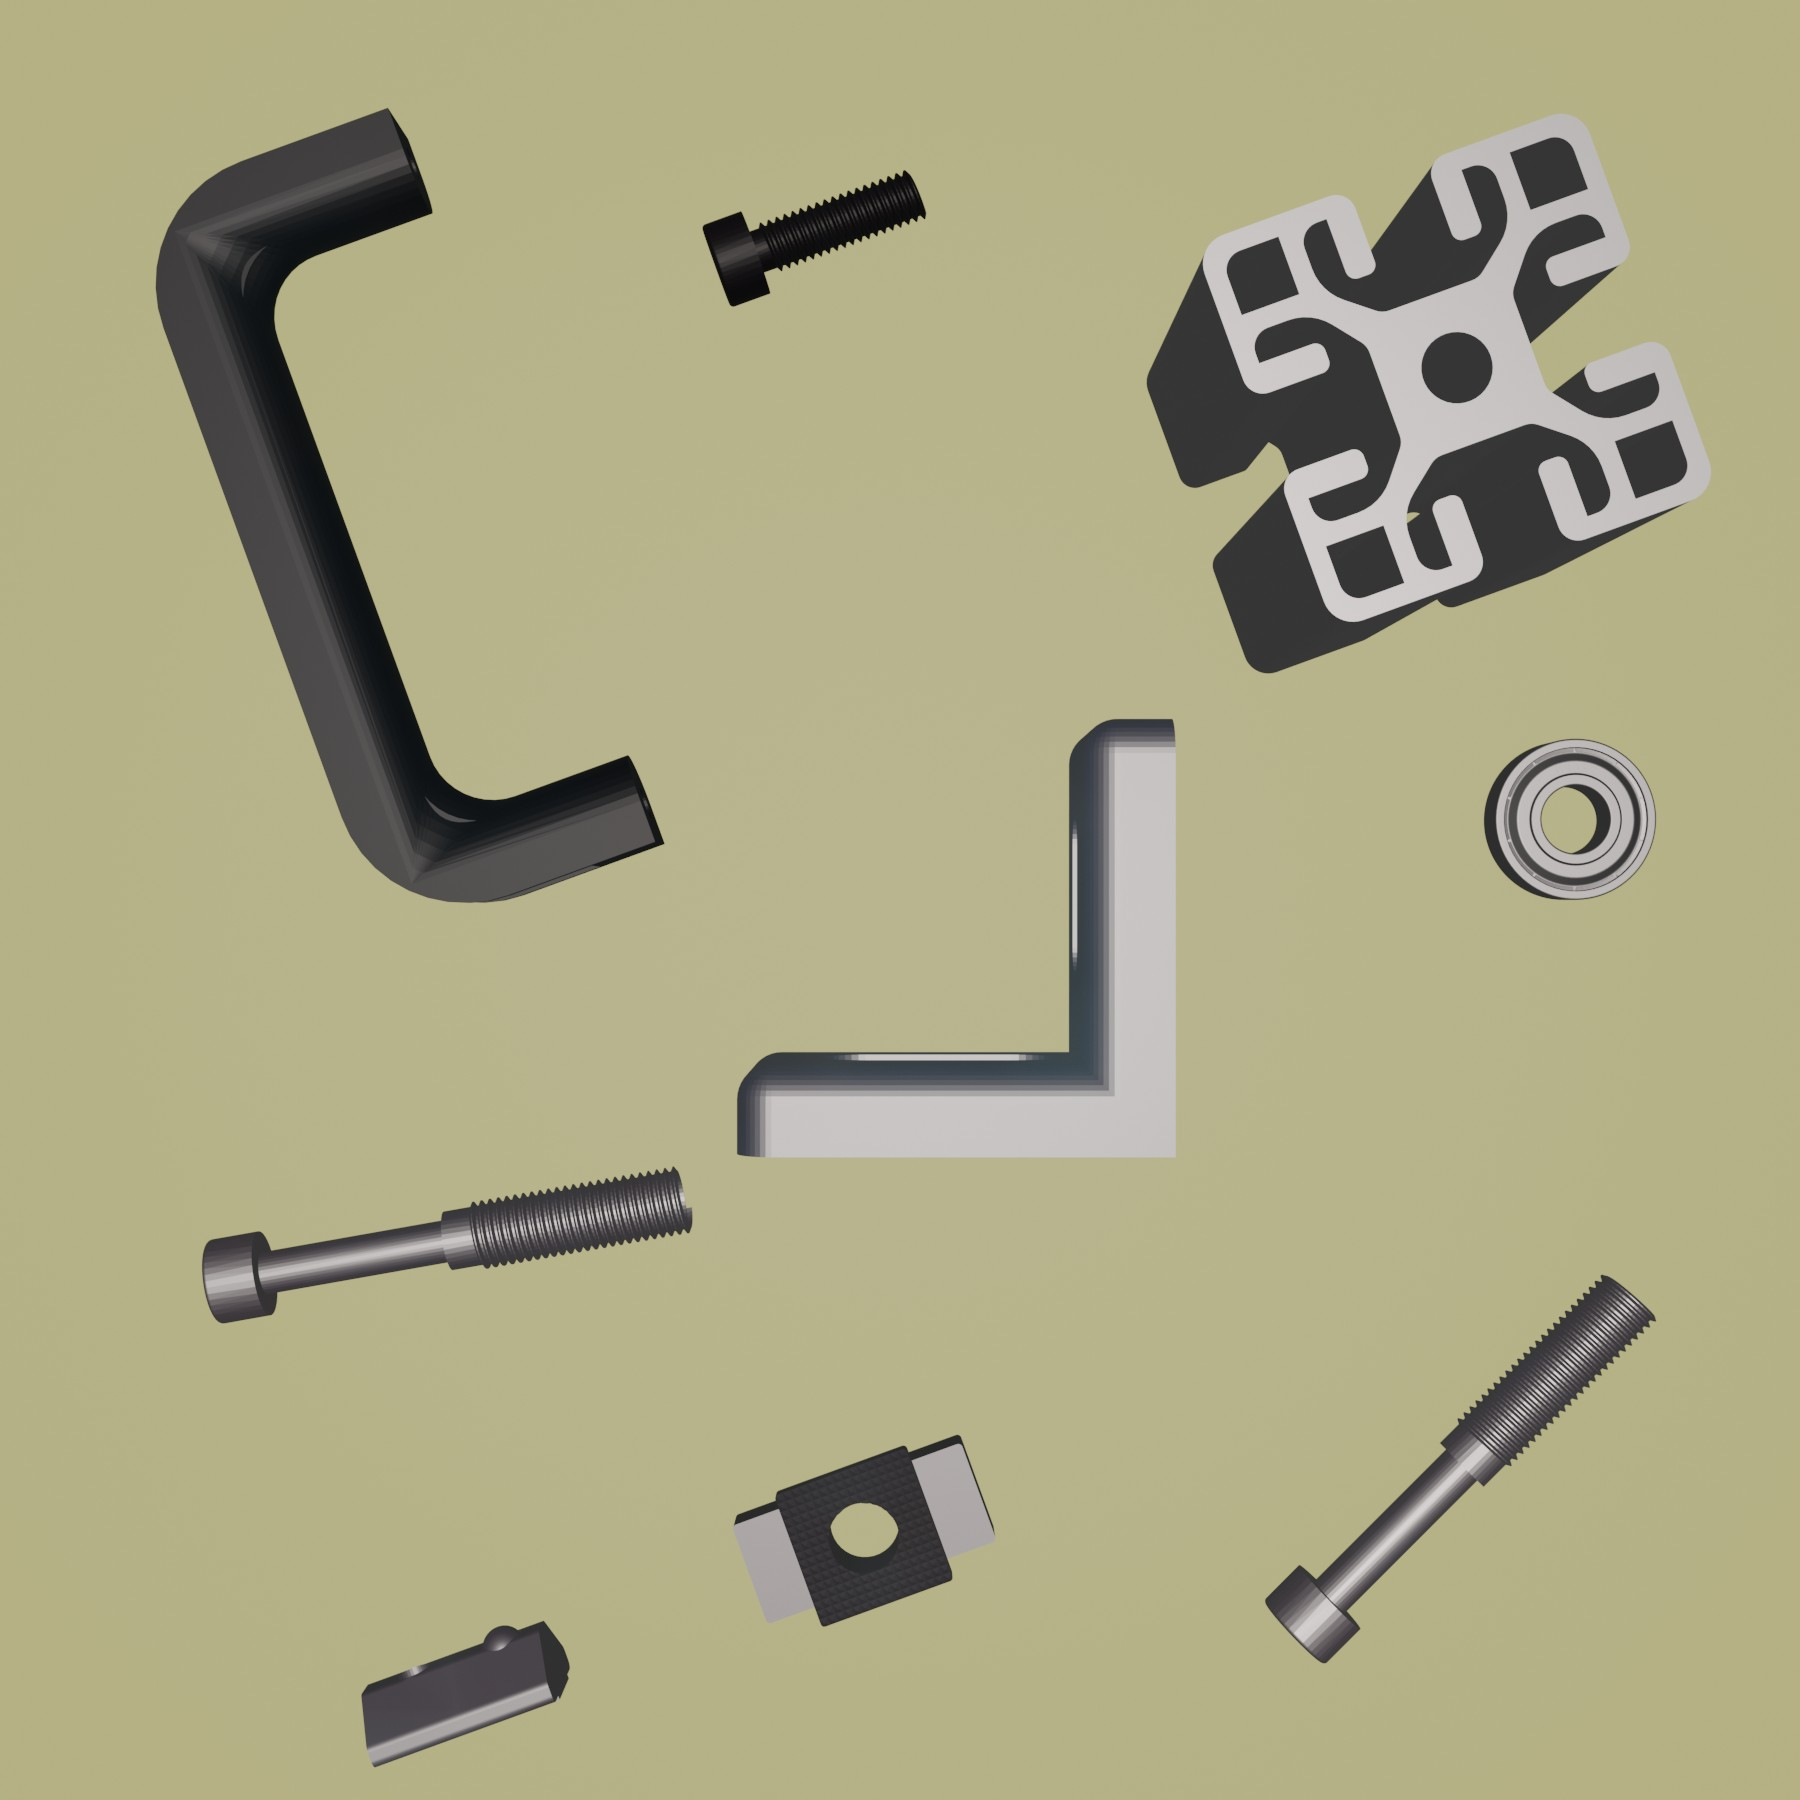Aluminium Extension: (1144, 110, 1713, 676)
Ball Bearing: (1484, 734, 1658, 903)
Multiwinkel: (732, 714, 1184, 1165)
Pull Handle: (150, 102, 668, 907)
Shoulder Socket Head Cap Screw: (1261, 1269, 1662, 1665), (199, 1160, 692, 1324)
Socket Head Cap Screw: (697, 165, 931, 312)
T Nut Square: (730, 1432, 1001, 1629)
T Spring Nut: (356, 1612, 574, 1772)
